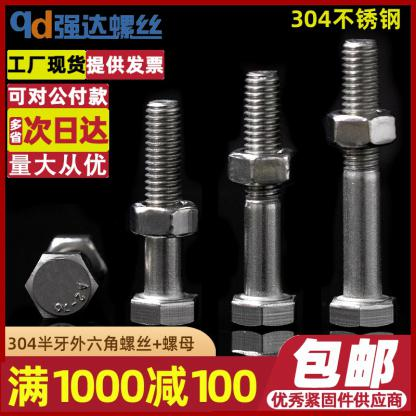FOD: (324, 39, 399, 328), (226, 66, 302, 329), (126, 95, 197, 324)
